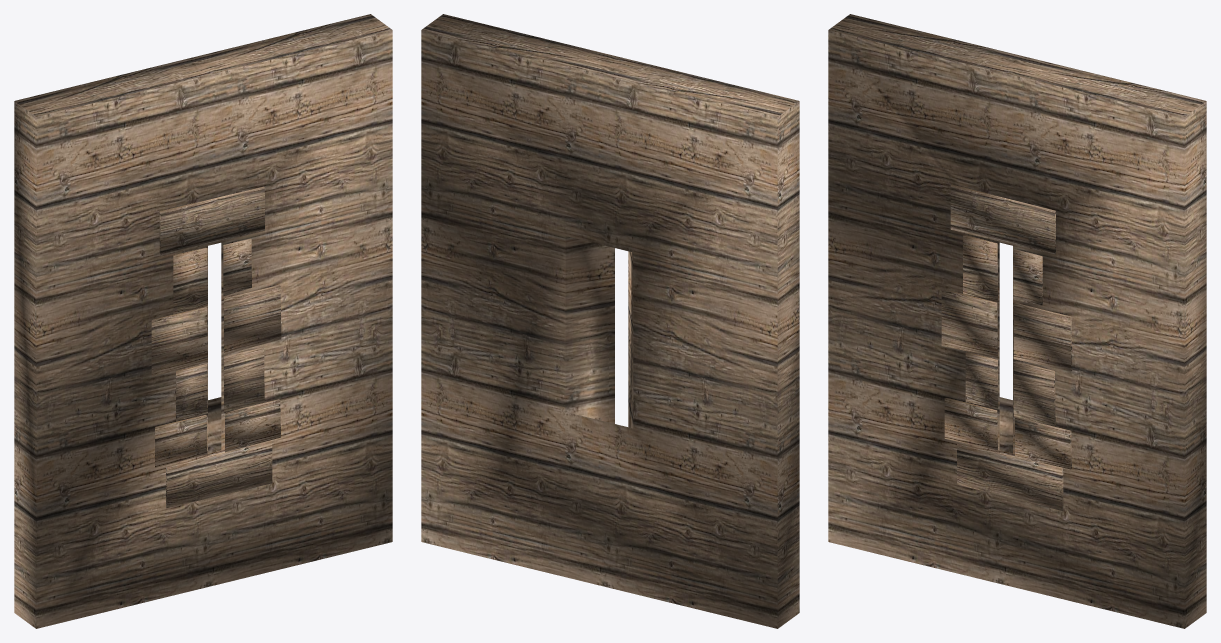
The model's file is wood arrowslit.glb.
The picture shows the model from 3 angles, left to right: view 1: azimuth 30°, elevation 25°; view 2: azimuth 150°, elevation 25°; view 3: azimuth 330°, elevation 25°; orthographic projection.
Parts seen in each view (by area): view 1: Wall, Arrow Loop.002; view 2: Wall, Arrow Loop.002; view 3: Wall, Arrow Loop.002.
Boxes of the visible parts, x1,y1,x2,y2 form: Wall, Arrow Loop.002: [14, 14, 392, 628]; Wall, Arrow Loop.002: [421, 14, 799, 628]; Wall, Arrow Loop.002: [828, 14, 1206, 628].
Size of the model in its own units: 2 by 2.74 by 0.225.
Materials: 2 (2 with a texture image).
